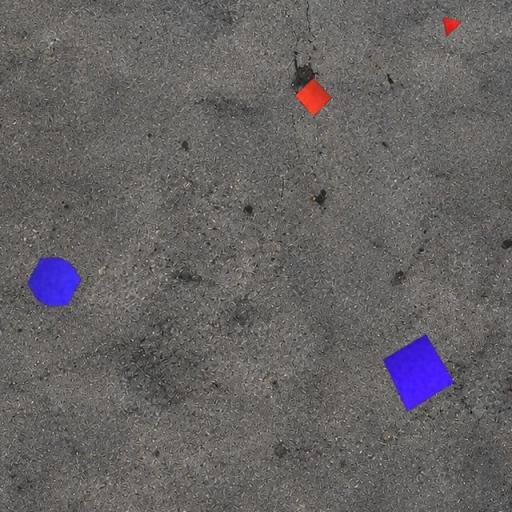BLUE_SQUARE: (382, 334, 455, 412)
RED_SQUARE: (294, 76, 332, 118)
